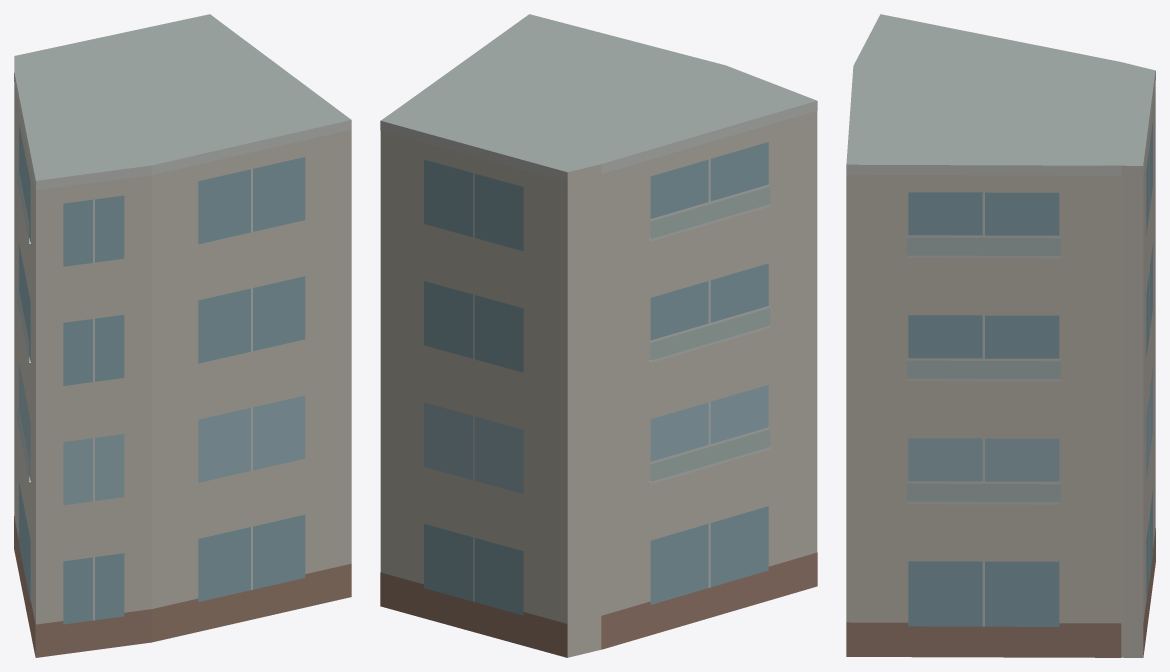
File: survey-upis-32727108.glb
3 renders of one model, left to right at view 1: azimuth 30°, elevation 25°; view 2: azimuth 150°, elevation 25°; view 3: azimuth 270°, elevation 25°, orthographic. The views are drawn at different scales.
Visible parts, largest first — view 1: survey-upis-32727108.tmp; view 2: survey-upis-32727108.tmp; view 3: survey-upis-32727108.tmp.
Part boxes in pixels (<box>): survey-upis-32727108.tmp: <box>14,14,351,657</box>; survey-upis-32727108.tmp: <box>380,14,817,657</box>; survey-upis-32727108.tmp: <box>846,14,1155,657</box>.
Bounding box in the file's own units: 7.97 × 12 × 6.85.
